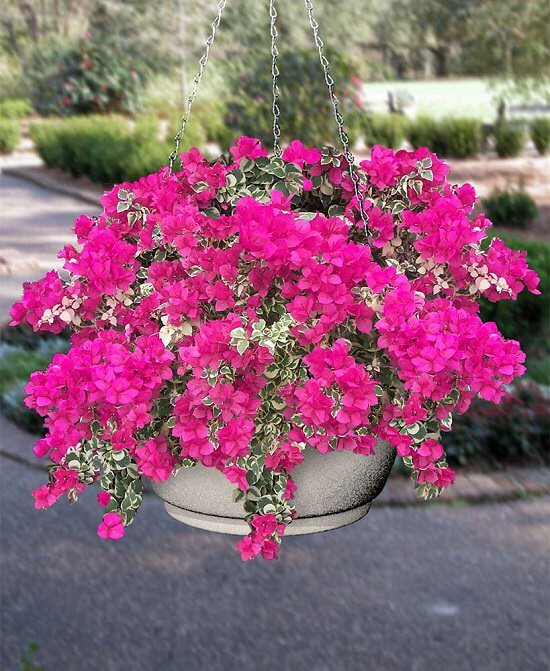bougainvillea: (173, 420, 208, 442), (109, 379, 137, 406), (98, 514, 125, 541), (109, 352, 140, 373), (90, 364, 115, 390), (252, 513, 278, 537), (138, 440, 161, 465), (187, 435, 213, 457), (33, 485, 56, 508), (237, 538, 259, 560), (112, 430, 136, 450), (55, 468, 79, 488), (232, 416, 254, 437)
